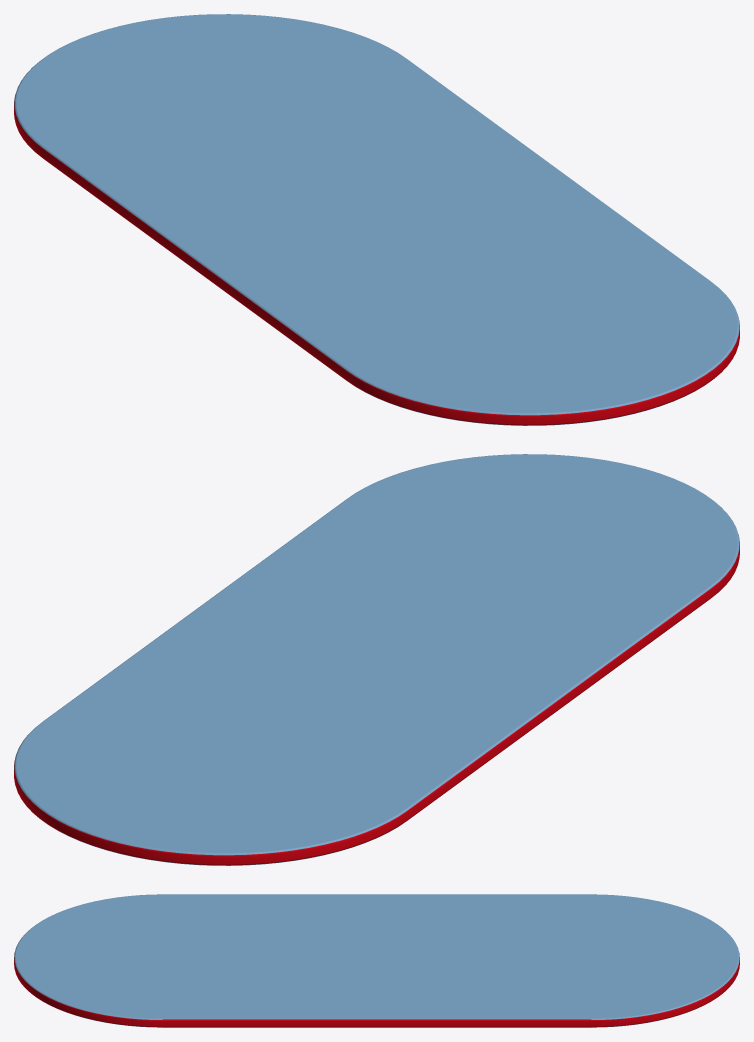
Rendered from SM_Building_Floor_3.fbx.
The picture shows the model from 3 angles, top to bottom: view 1: azimuth 30°, elevation 25°; view 2: azimuth 150°, elevation 25°; view 3: azimuth 270°, elevation 25°; orthographic projection. The views are drawn at different scales.
Visible parts, largest first — view 1: SM_Building_Floor_3; view 2: SM_Building_Floor_3; view 3: SM_Building_Floor_3.
Boxes of the visible parts, x1,y1,x2,y2 form: SM_Building_Floor_3: (14,14,739,425); SM_Building_Floor_3: (14,454,739,865); SM_Building_Floor_3: (14,894,739,1027).
Bounding box in the file's own units: 4.55 × 0.15 × 11.12.
